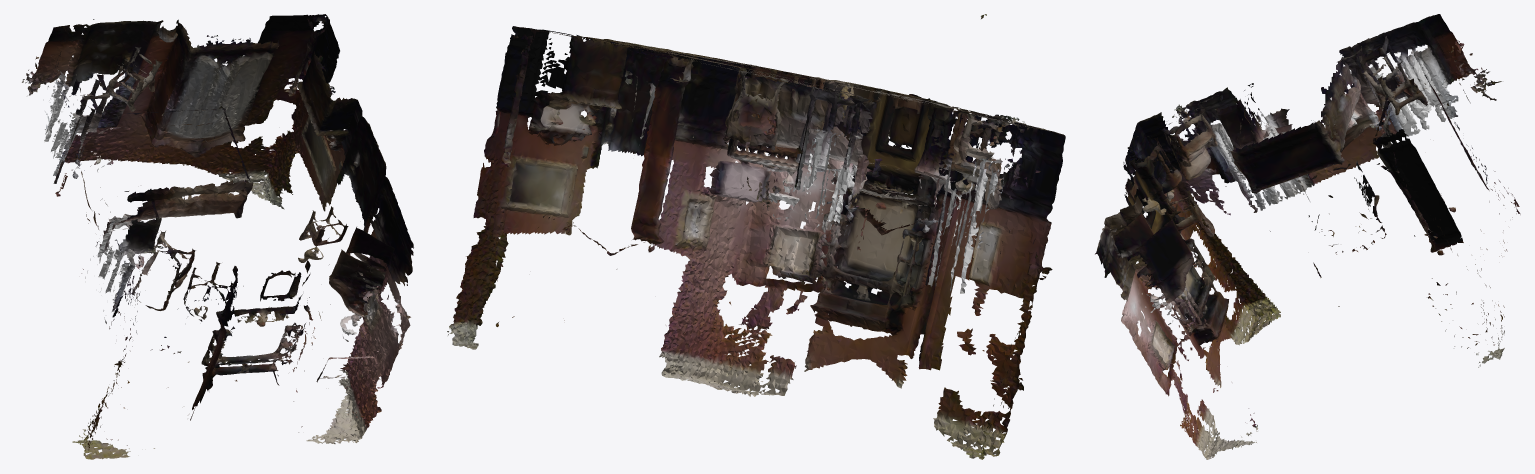
File: recorded-rgbd-preview.glb
3 views of the same model, side by side, from view 1: azimuth 30°, elevation 25°; view 2: azimuth 150°, elevation 25°; view 3: azimuth 270°, elevation 25° (orthographic). The views are drawn at different scales.
Visible parts, largest first — view 1: world; view 2: world; view 3: world.
Boxes of the visible parts, x1=… form: world: x1=22, y1=14, x2=413, y2=459; world: x1=447, y1=14, x2=1065, y2=459; world: x1=1095, y1=14, x2=1520, y2=459.
Bounding box in the file's own units: 5.95 × 6.49 × 6.97.
